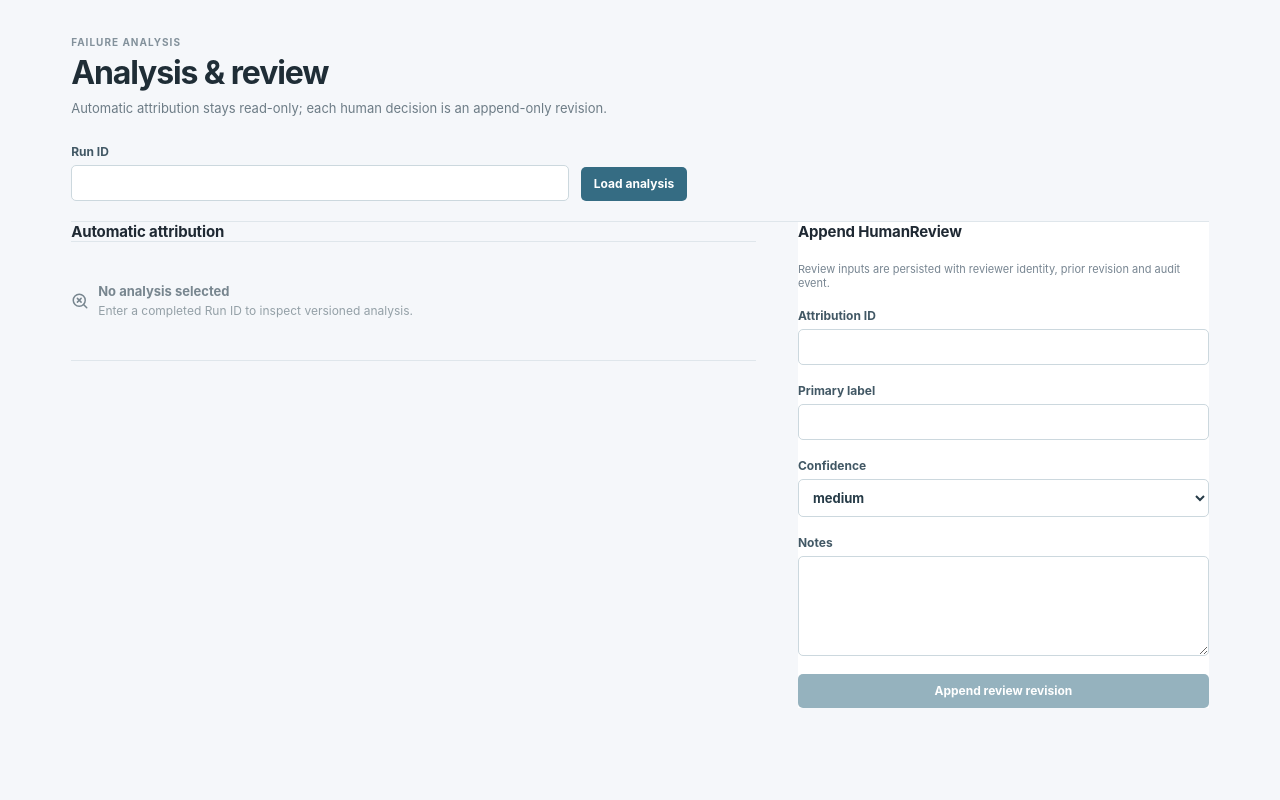
core operational pages › loads automatic attribution and appends a HumanReview revision
In the field labelled "Run ID": (320, 183) [71, 165, 569, 201], type "run-1"
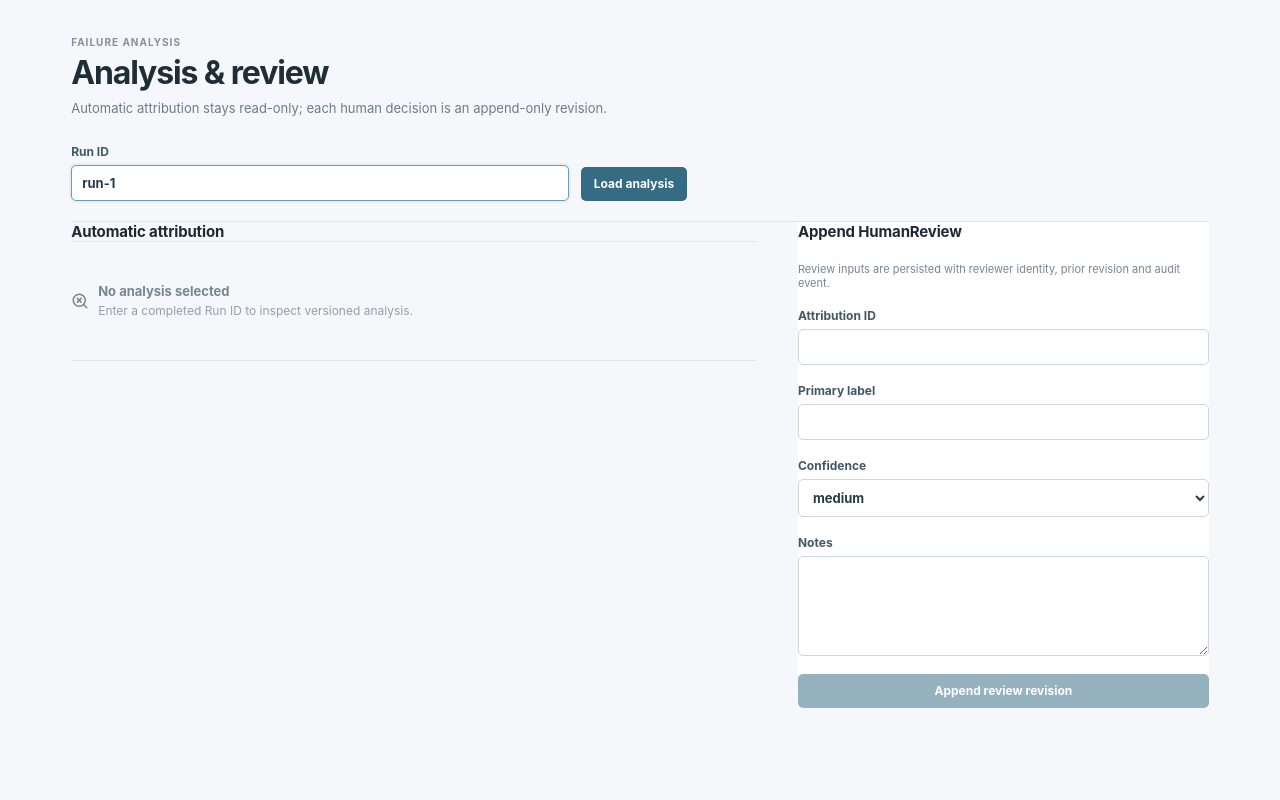
Click the button "Load analysis": click(634, 184) [581, 167, 687, 201]
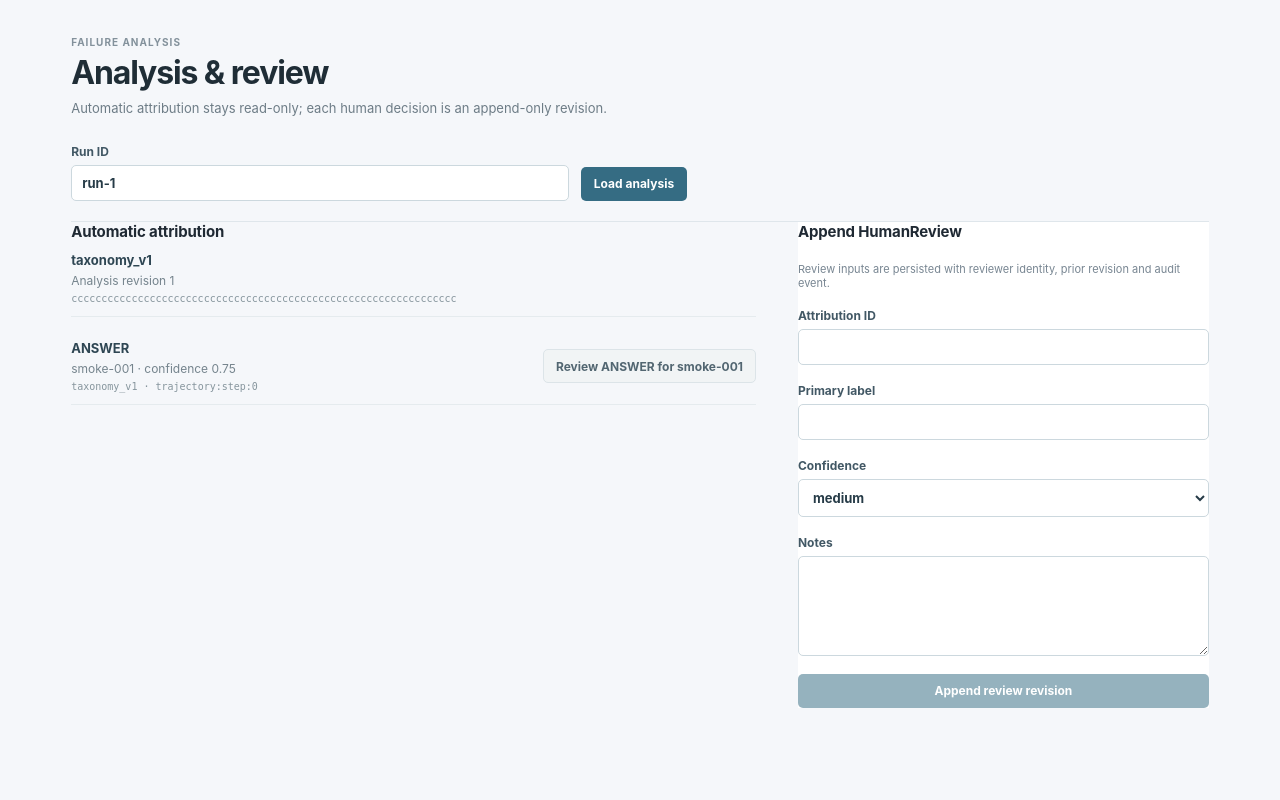
Check: the text "ANSWER" is shown, box [71, 340, 129, 356]
Check: the text "taxonomy_v1" is shown, box [71, 252, 152, 268]
Click the button "Review ANSWER for smoke-001": click(649, 366) [543, 349, 756, 383]
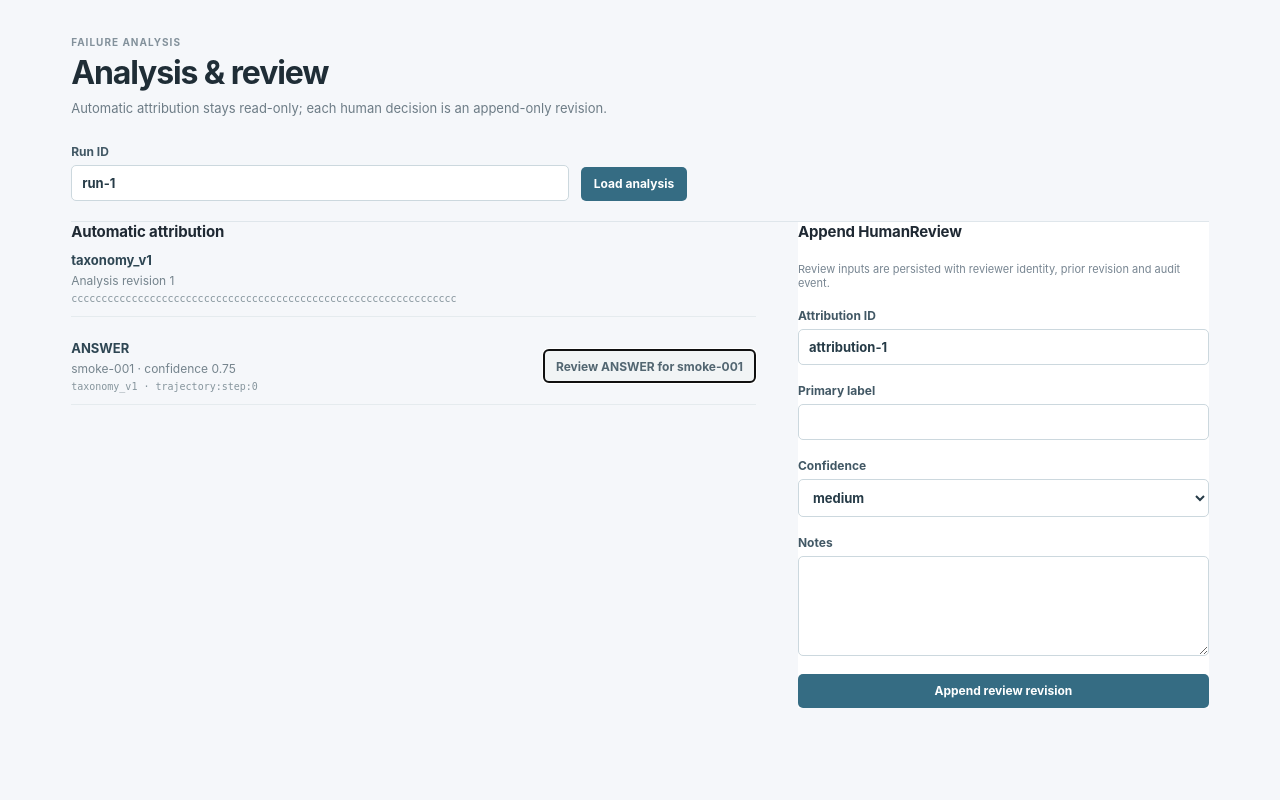
In the field labelled "Primary label": (1003, 422) [798, 404, 1209, 440], type "ANSWER"
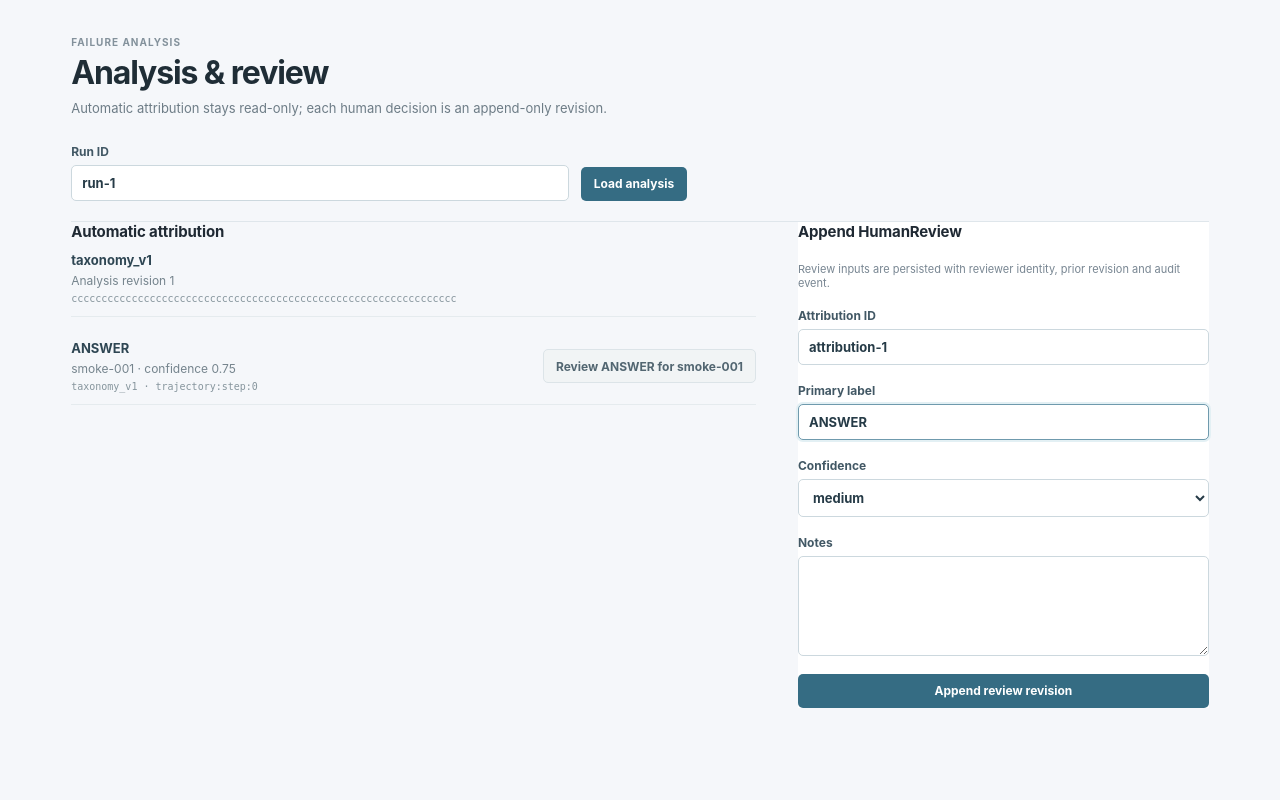
Click the button "Append review revision": click(1003, 691) [798, 674, 1209, 708]
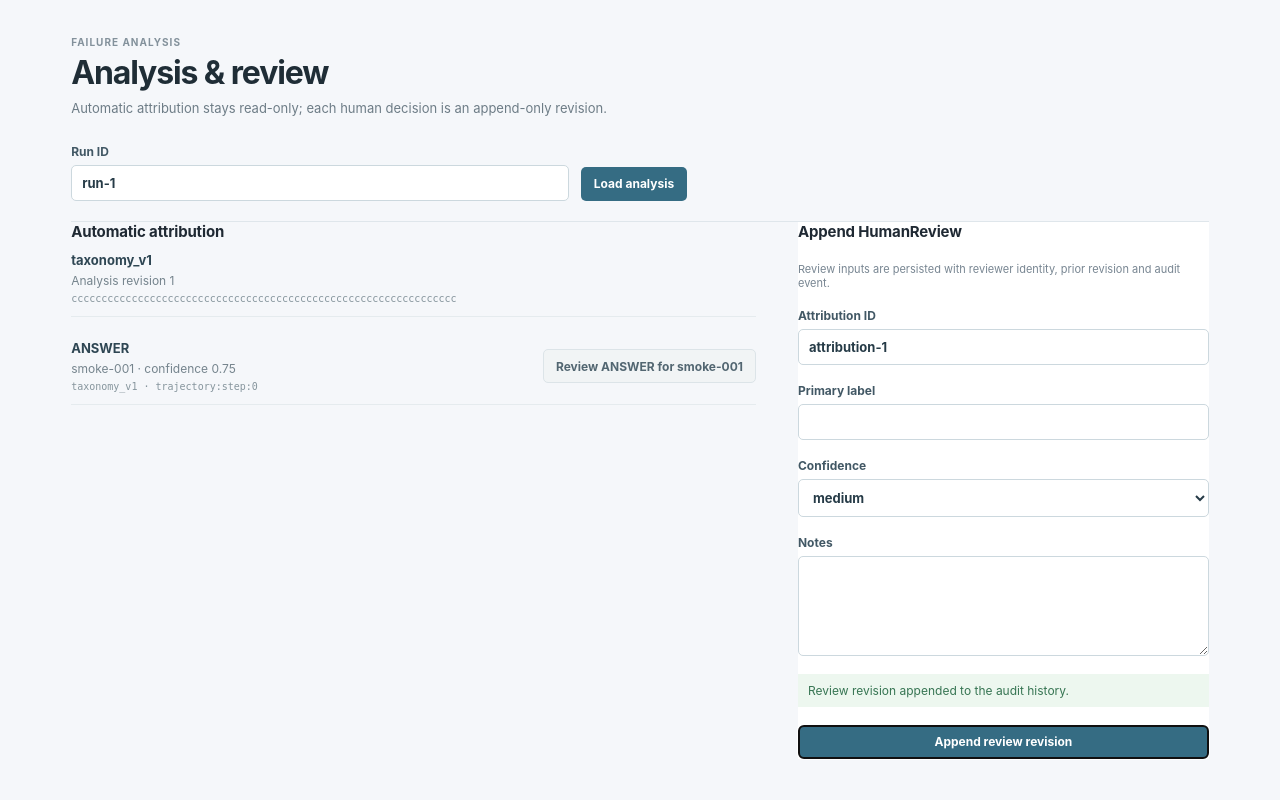
Check: the text "Review revision appended to the audit history." is shown, box [798, 674, 1209, 707]
